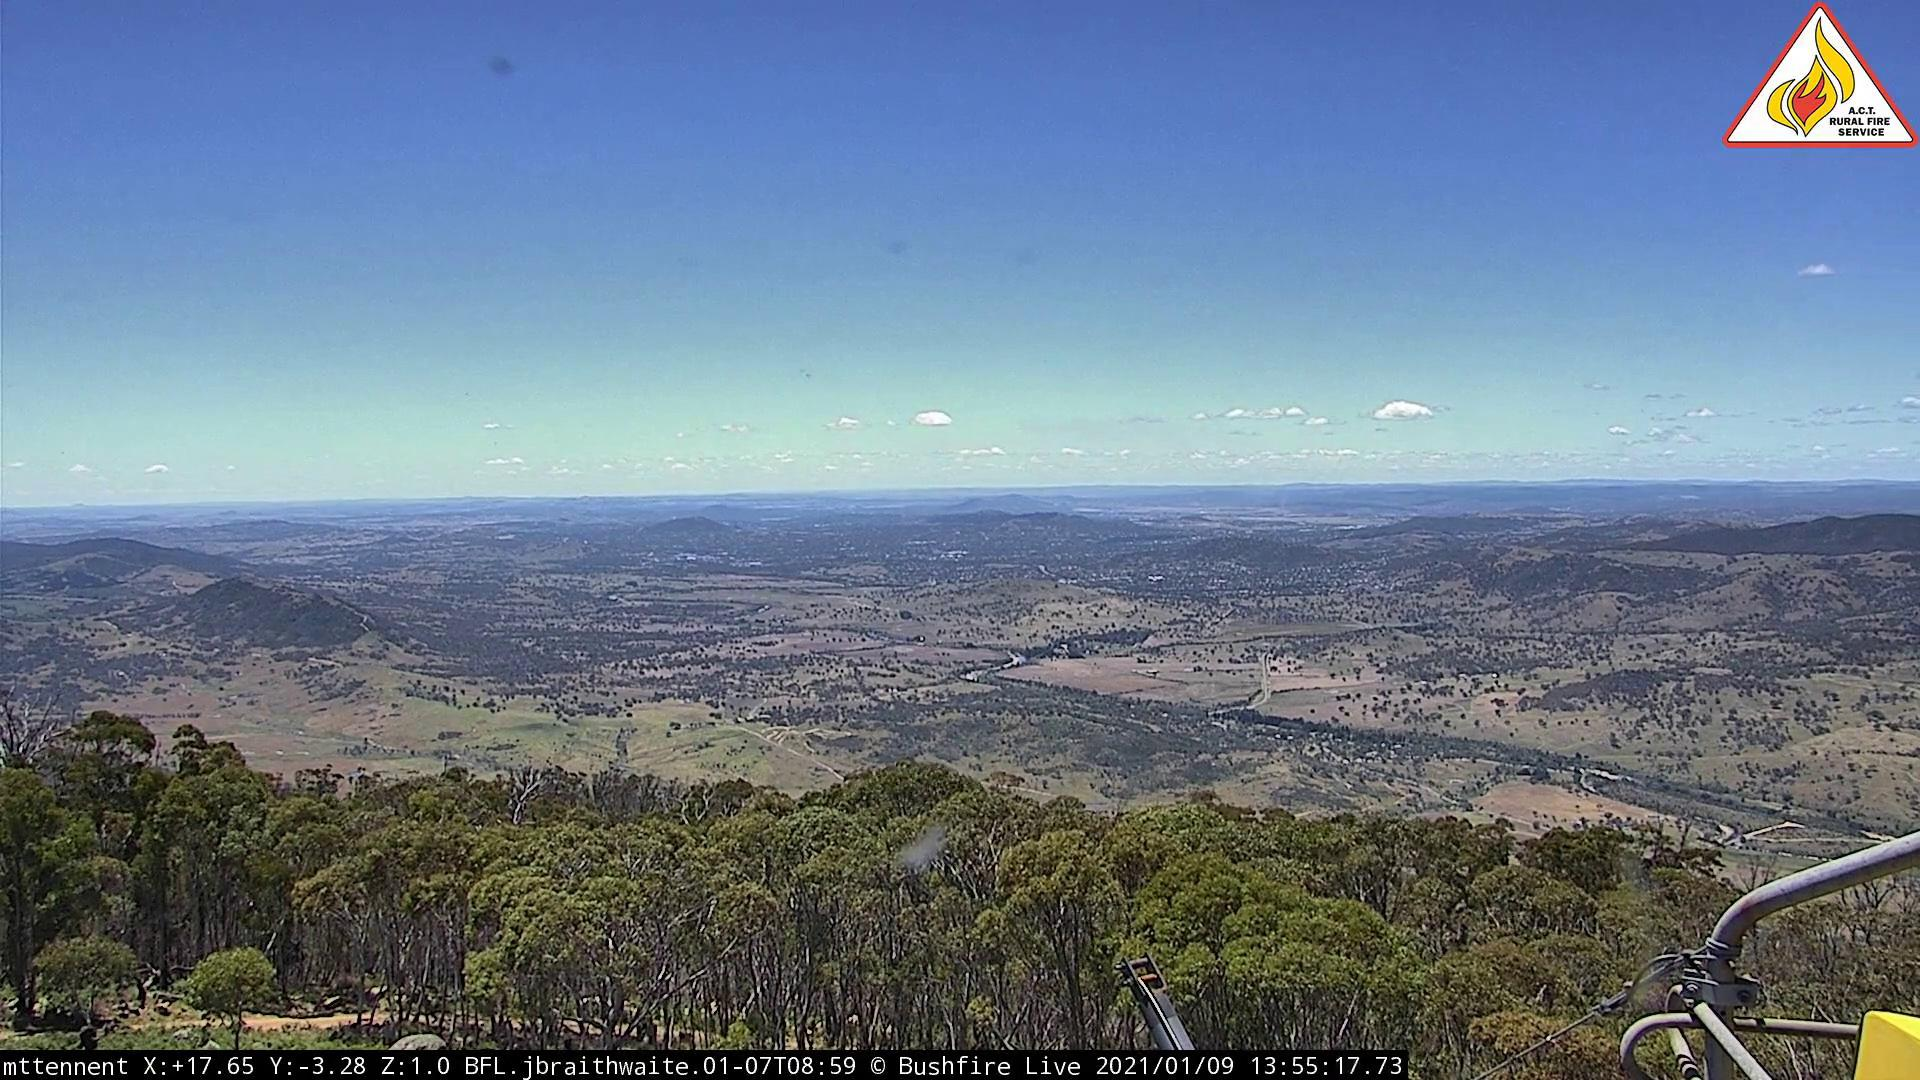Smoke: (1275, 495, 1295, 521)
